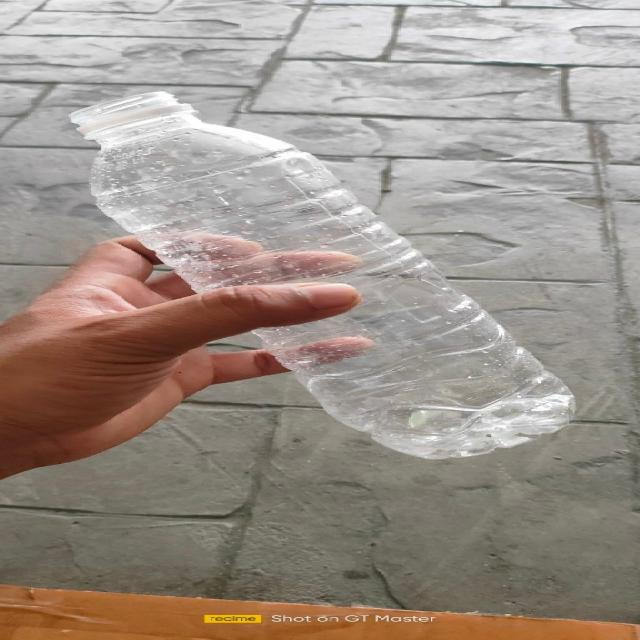plastic_bottle: (72, 91, 578, 459)
